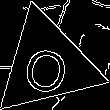O_N: (19, 34, 75, 95)
